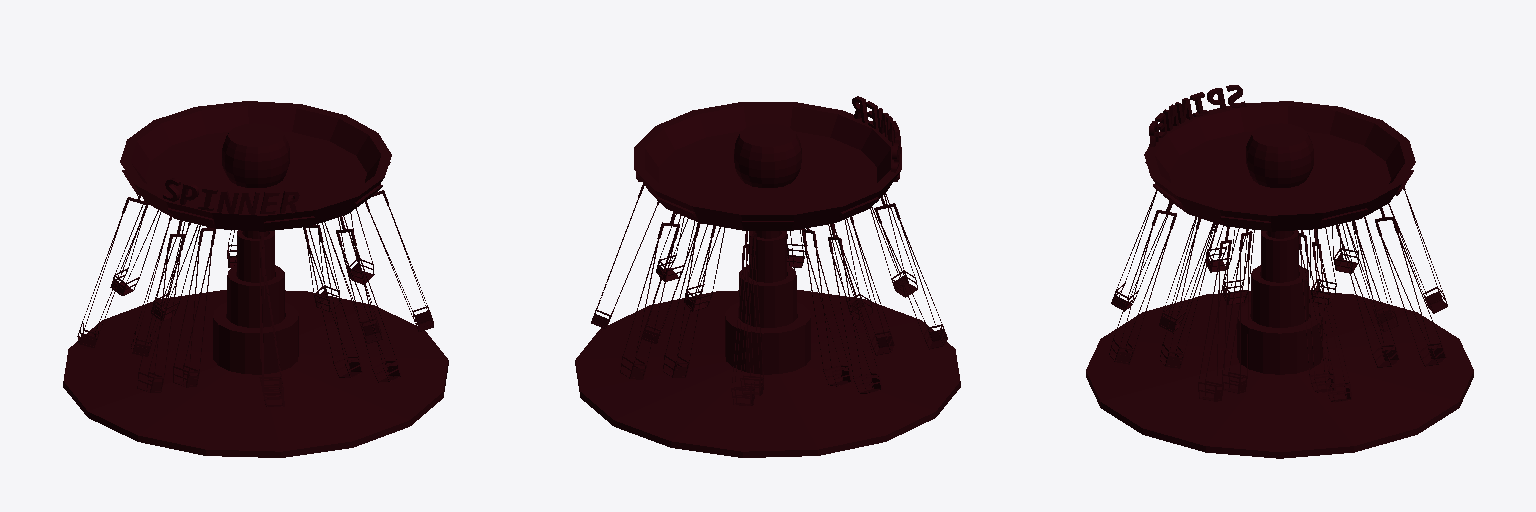
The model's file is spinner.obj.
3 renders of one model, left to right at view 1: azimuth 30°, elevation 25°; view 2: azimuth 150°, elevation 25°; view 3: azimuth 270°, elevation 25°, orthographic.
Parts seen in each view (by area): view 1: Cylinder.004_Cylinder.022, Cylinder.001_Cylinder.021; view 2: Cylinder.004_Cylinder.022, Cylinder.001_Cylinder.021; view 3: Cylinder.004_Cylinder.022, Cylinder.001_Cylinder.021.
Part boxes in pixels (x1,y1,x2,y2): Cylinder.004_Cylinder.022: (63,230,448,457); Cylinder.001_Cylinder.021: (77,101,433,406); Cylinder.004_Cylinder.022: (575,231,960,457); Cylinder.001_Cylinder.021: (591,96,947,405); Cylinder.004_Cylinder.022: (1086,230,1473,458); Cylinder.001_Cylinder.021: (1109,85,1447,402).
Size of the model in its own units: 7.36 by 5.05 by 7.36.